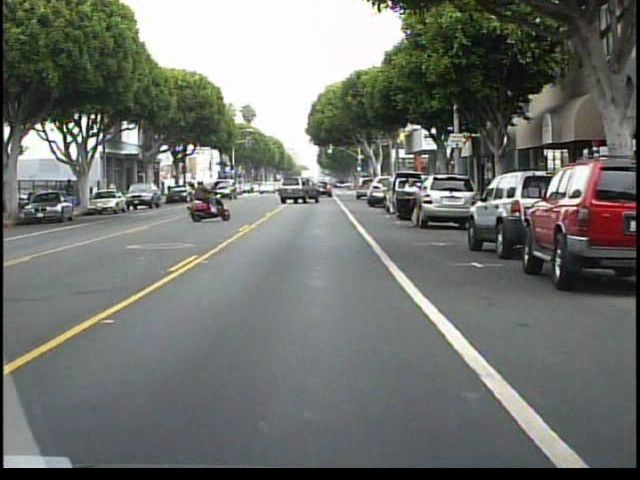person: (401, 171, 429, 233), (183, 175, 212, 217), (62, 175, 79, 211)
